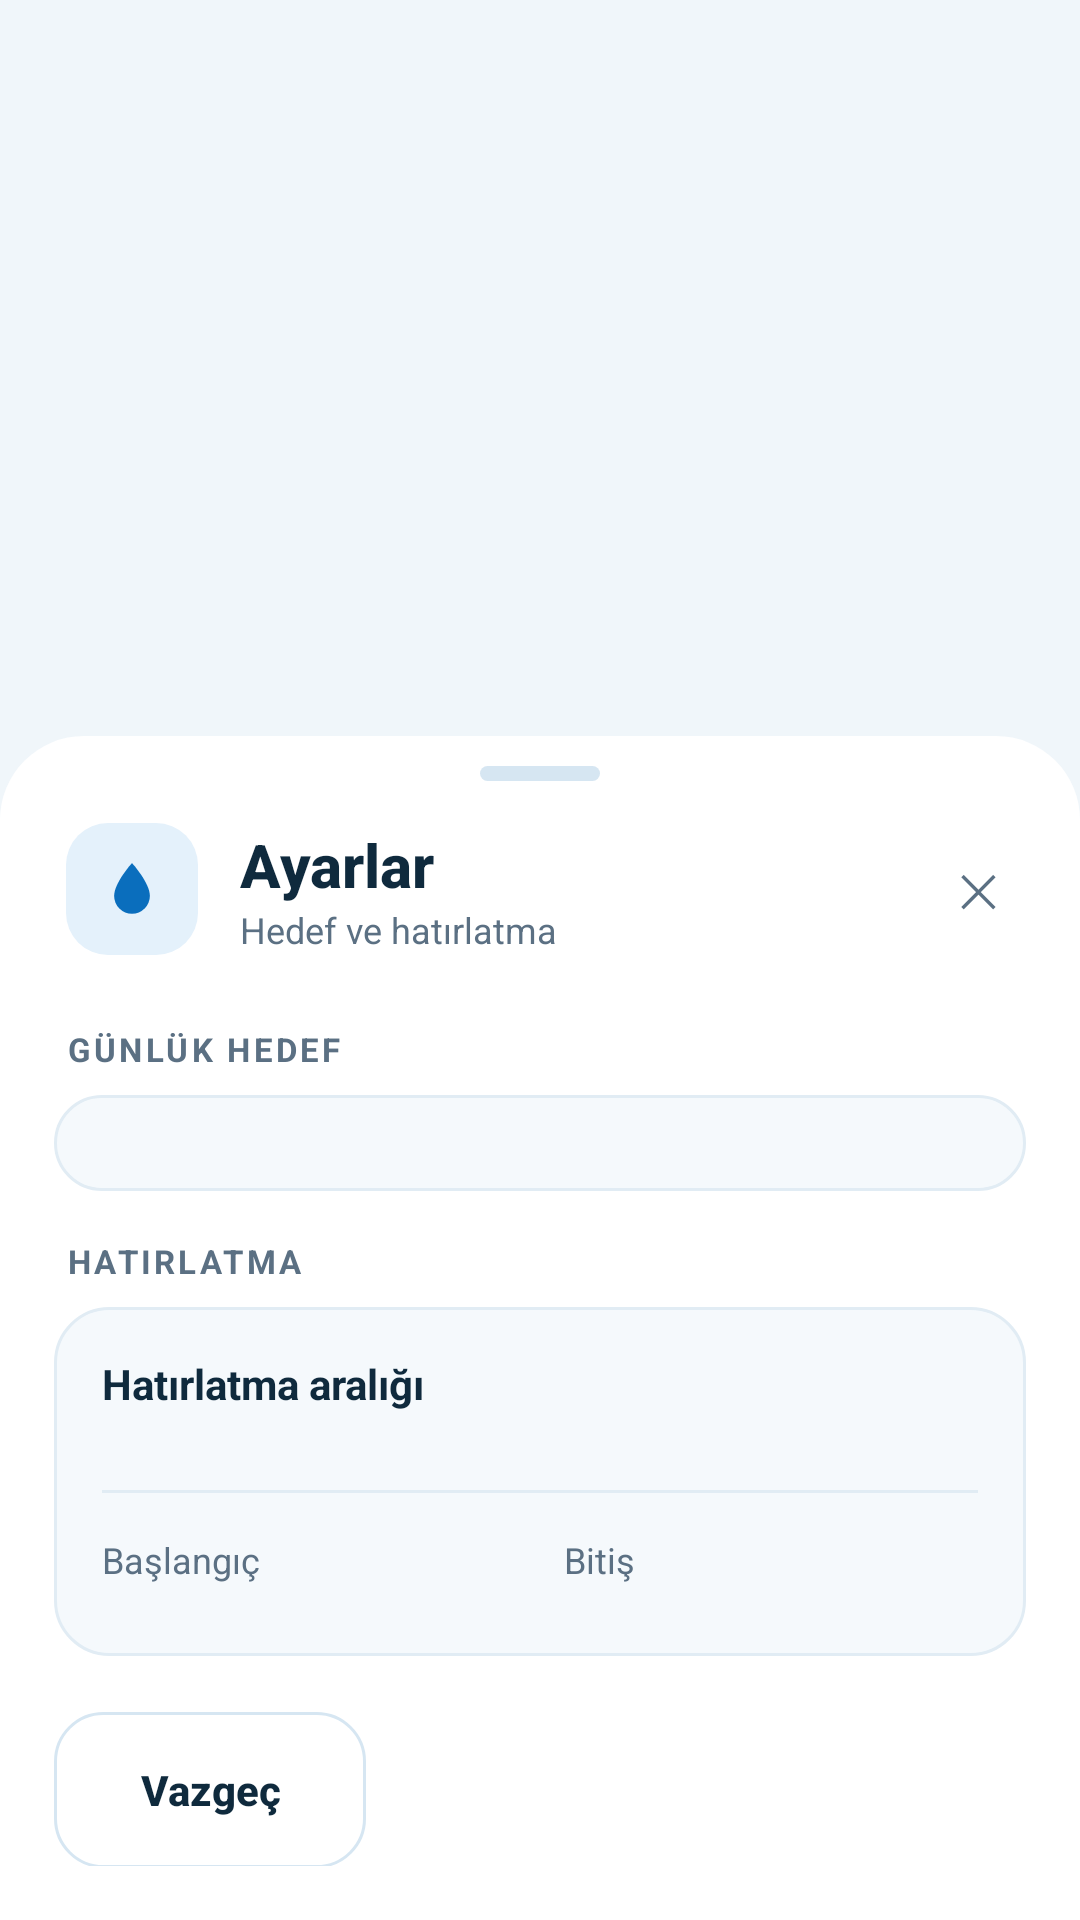

Icons on this 1080w x 1920h Android screen, each with its box as (x1, y1, x2, y2):
drop: (66, 823, 198, 955)
